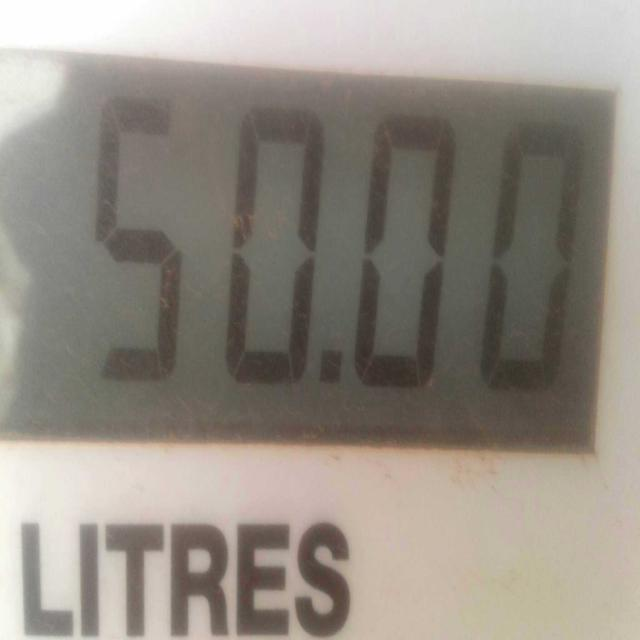.: (305, 337, 353, 406)
0: (470, 94, 586, 396), (214, 97, 324, 407), (350, 101, 458, 403)
5: (81, 96, 192, 379)
